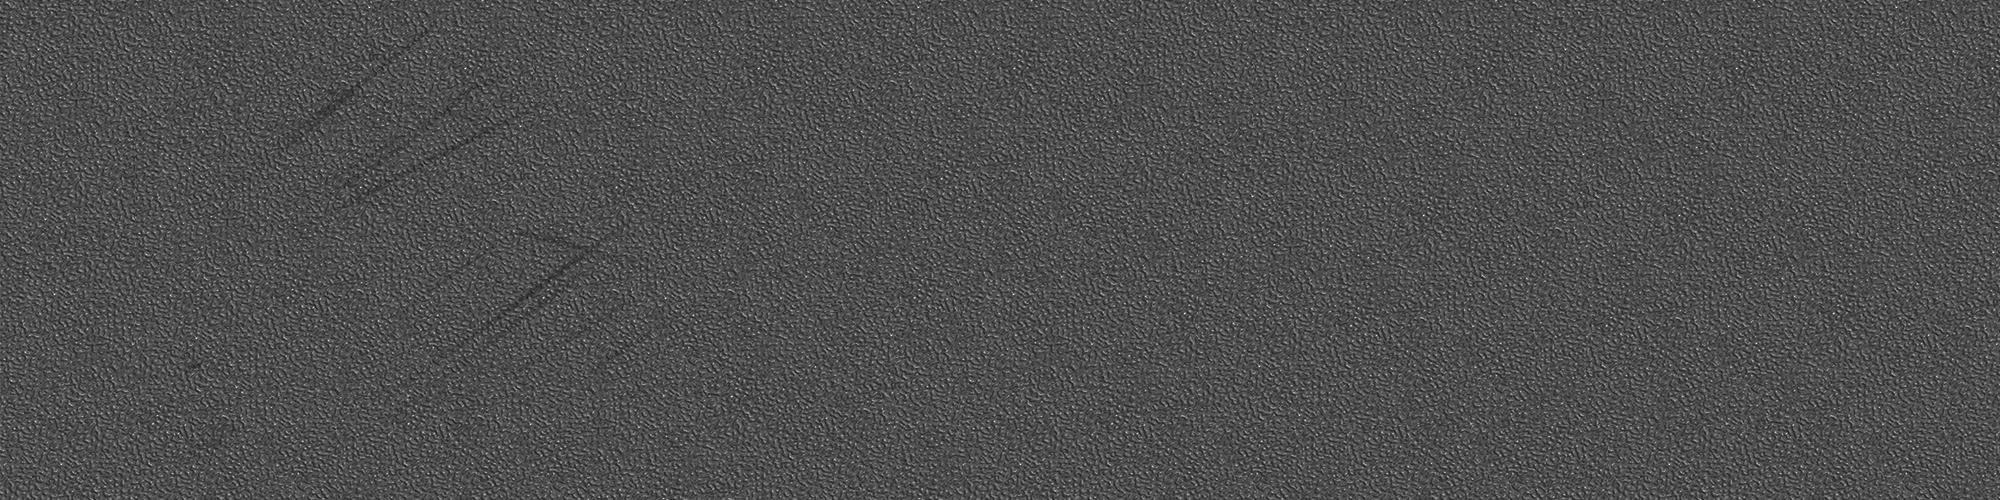Scratches: (395, 219, 665, 416), (270, 26, 534, 223), (642, 82, 698, 162), (184, 402, 247, 460), (179, 358, 207, 380)
